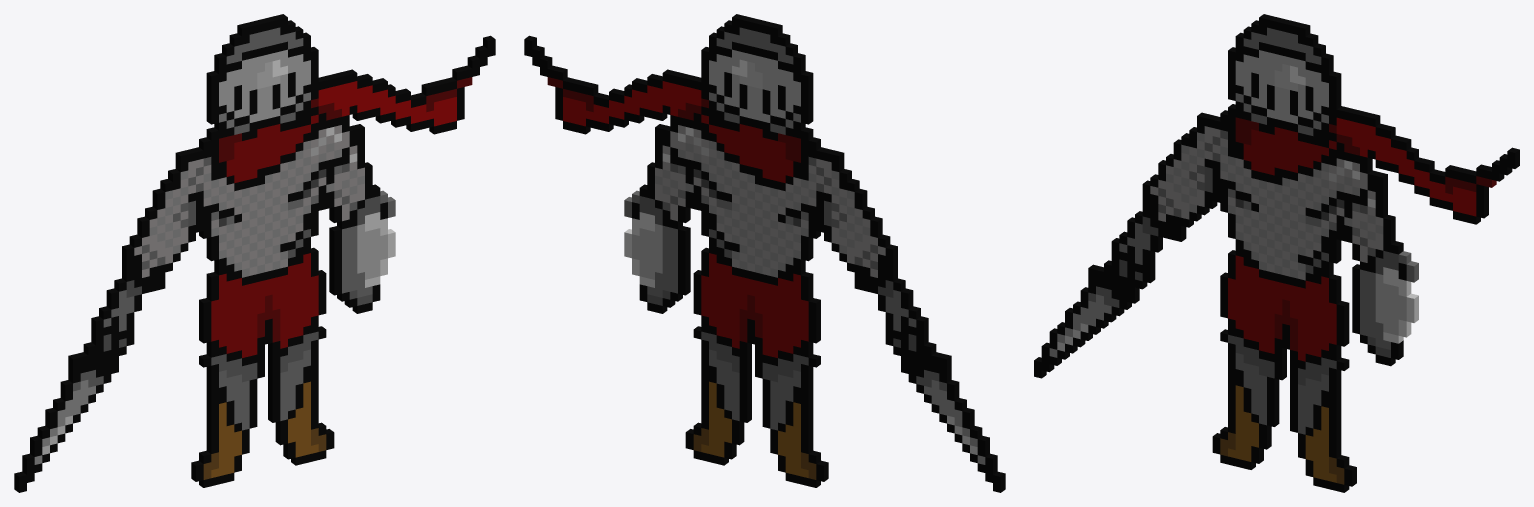
The model's file is Squire.fbx.
The picture shows the model from 3 angles, left to right: view 1: azimuth 30°, elevation 25°; view 2: azimuth 150°, elevation 25°; view 3: azimuth 330°, elevation 25°; orthographic projection.
Visible parts, largest first — view 1: Curve.646; view 2: Curve.646; view 3: Curve.646.
Boxes of the visible parts, x1=… form: Curve.646: x1=14, y1=14, x2=495, y2=492; Curve.646: x1=524, y1=14, x2=1005, y2=492; Curve.646: x1=1034, y1=14, x2=1519, y2=492.
Bounding box in the file's own units: 52.49 × 47.4 × 0.9.
